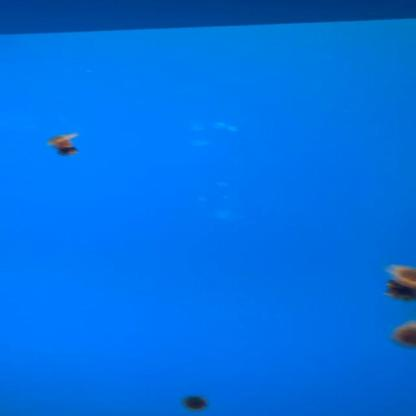jellyfish: (384, 263, 416, 297), (43, 133, 81, 156), (390, 319, 416, 349), (180, 394, 209, 412)
